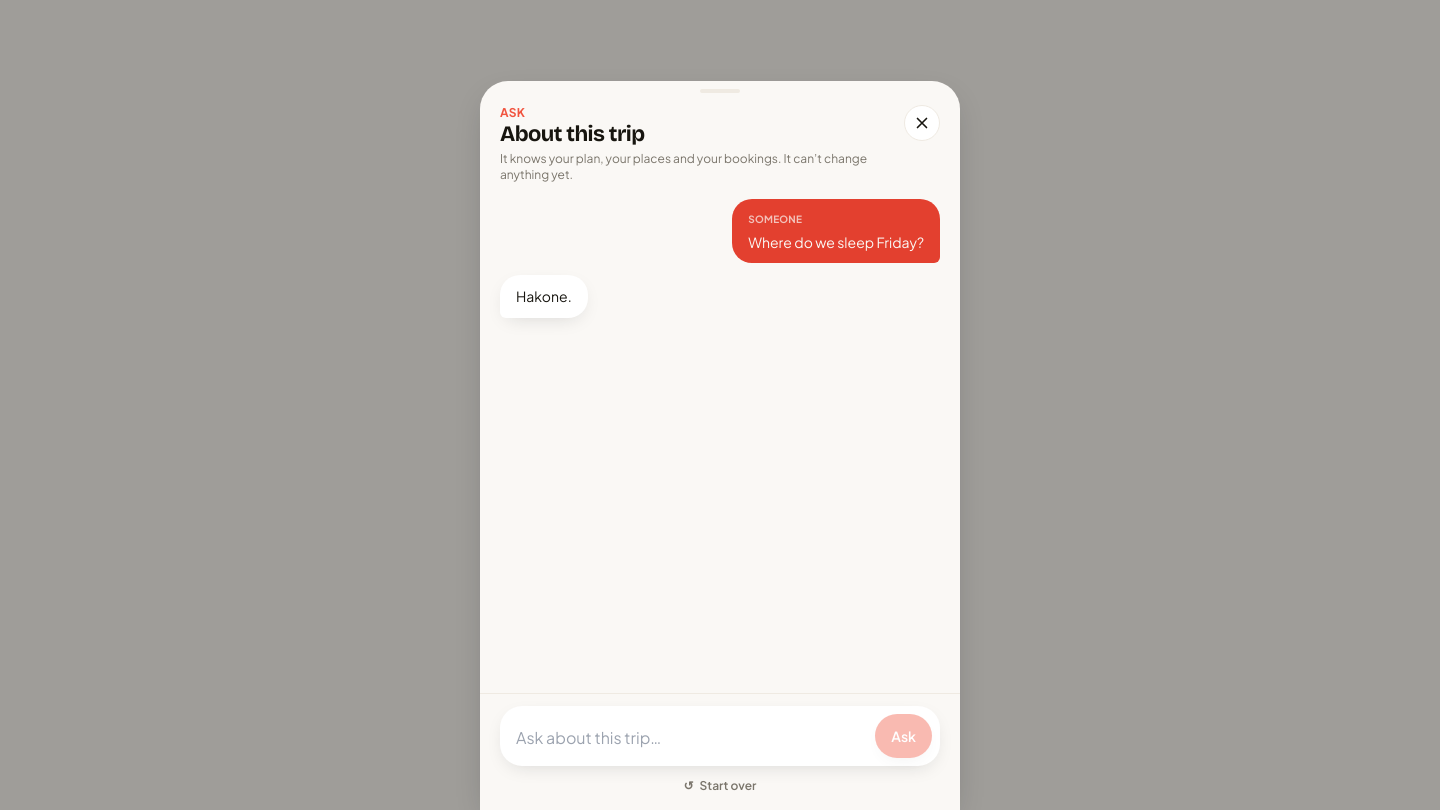
Test: starting a new conversation › empties the transcript once confirmed
Click the button "↺ Start over".
click(720, 786)  # box [672,774,768,798]
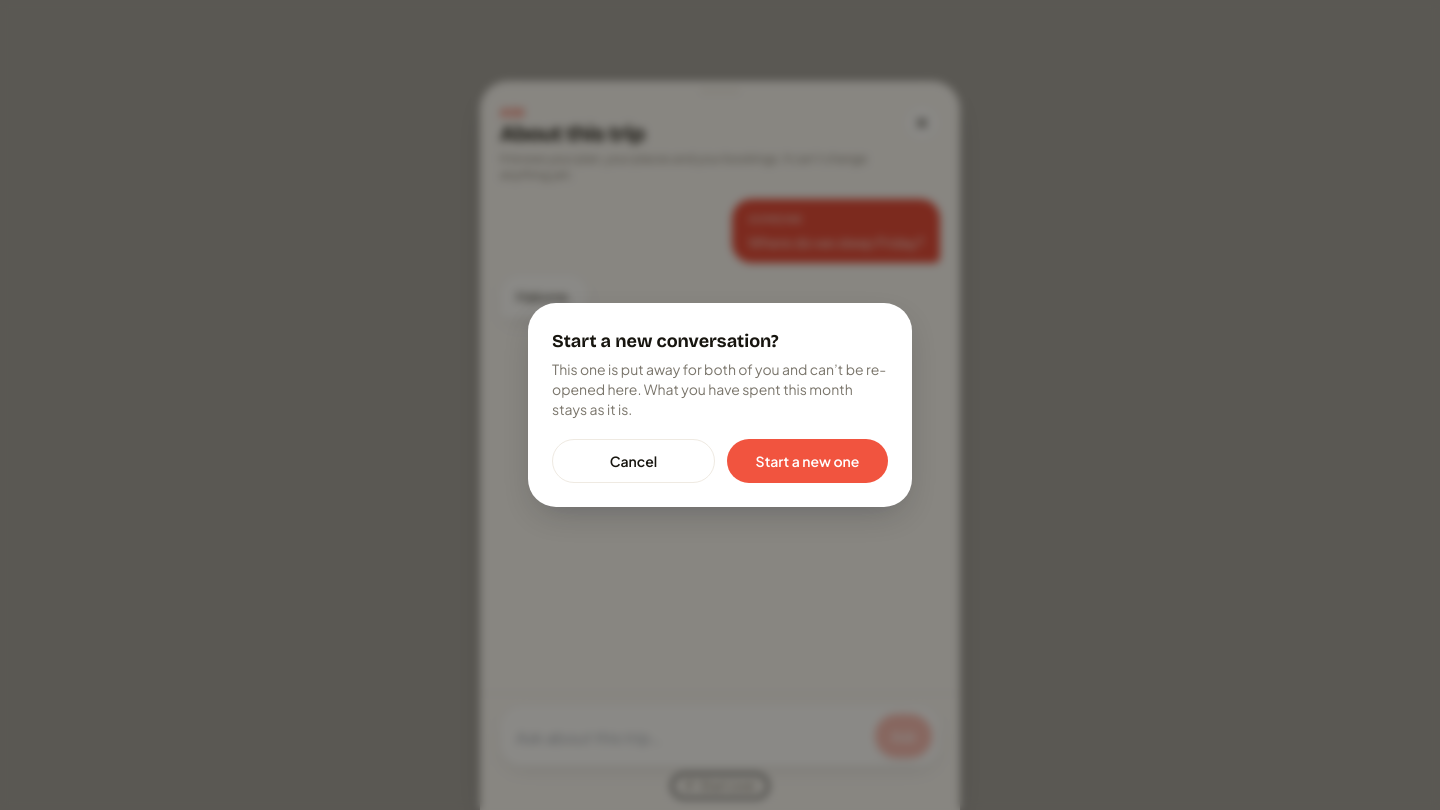
Click the button "Start a new one".
click(808, 461)  # box [727,439,888,483]
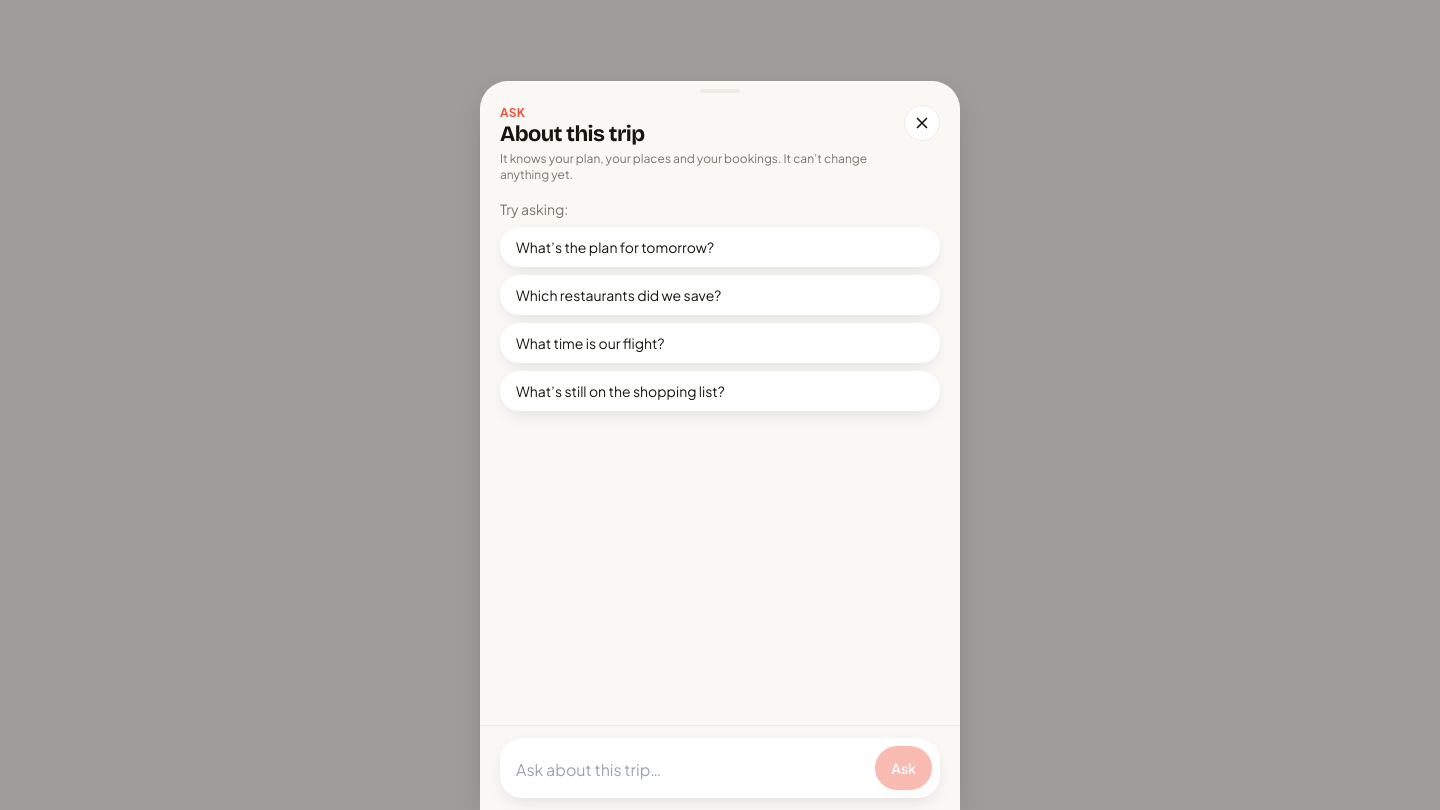
expect the text "Hakone." is gone: met
expect the button "What’s the plan for tomorrow?" is shown: met, box [500,226,940,266]
expect the button "Start over" is gone: met
